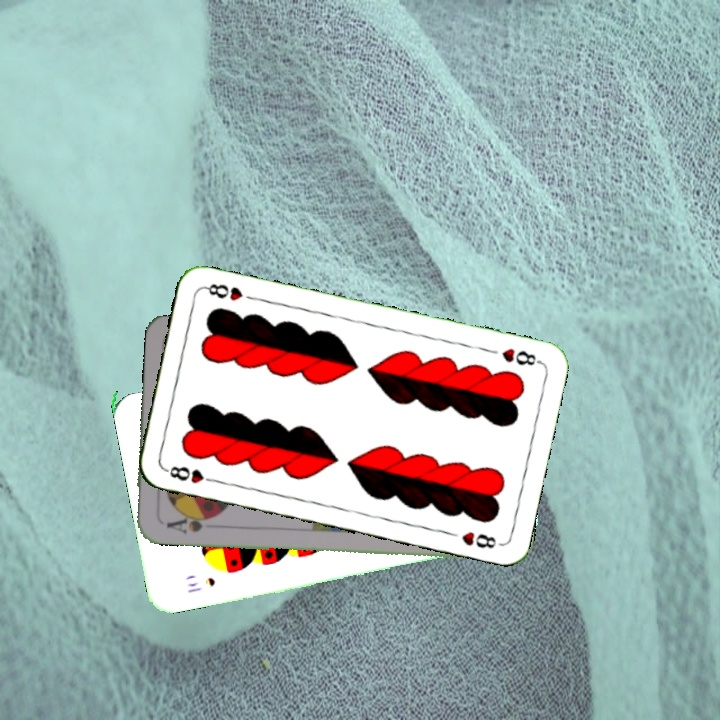H8: (161, 462, 220, 486), (497, 344, 543, 368)
S10: (183, 573, 218, 596)
SA: (162, 510, 218, 536)
